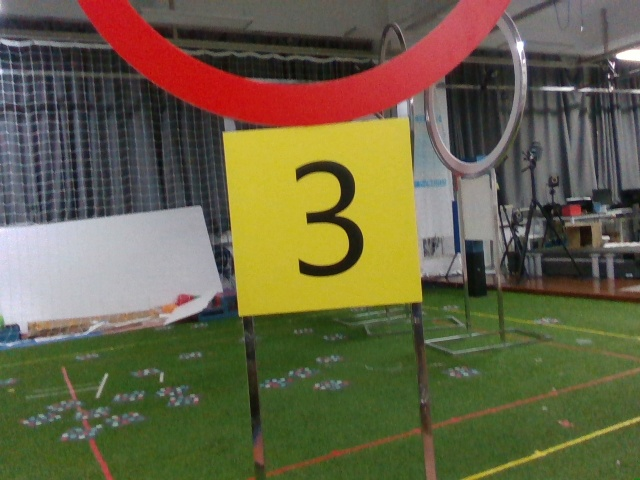target: (234, 135, 416, 301)
